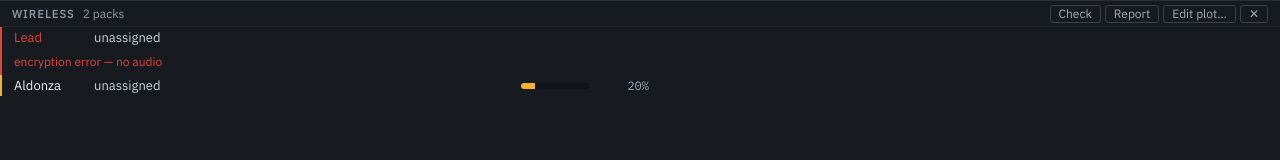
Test: RfPanel › the check › lists what is not ready, worst first, with the performer and why
Click the button with class "rf-btn" showing "Check". click: (1075, 14)
box: [1050,4,1101,22]
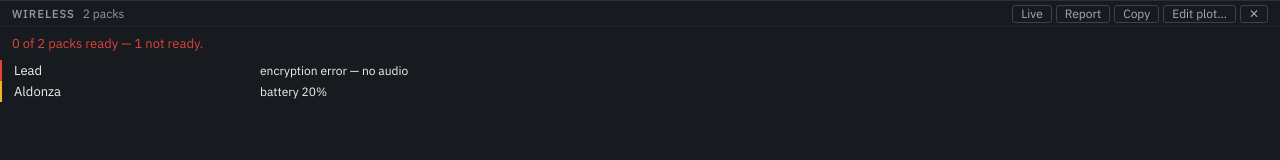
Expected: the text with class "rf-check-verdict" reads "0 of 2 packs ready — 1 not ready.", [12,35,203,52]
